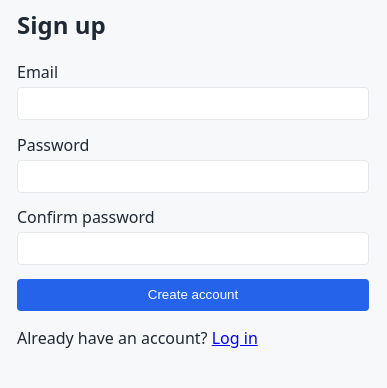
SignupPage › blocks submit when confirm password does not match (negative)
This screenshot has width=387, height=388.
Step 1. Type "alice@example.com" into the field labelled "Email" → [193, 103], box x1=17 y1=87 x2=369 y2=120
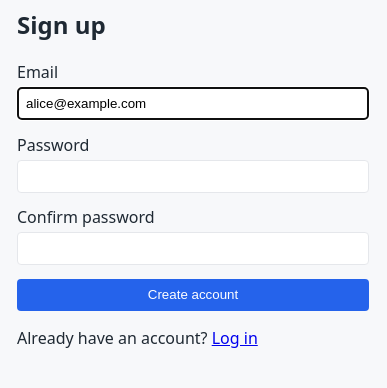
Step 2. Type "password1" into the password field labelled "Password" → [193, 176], box x1=17 y1=160 x2=369 y2=192
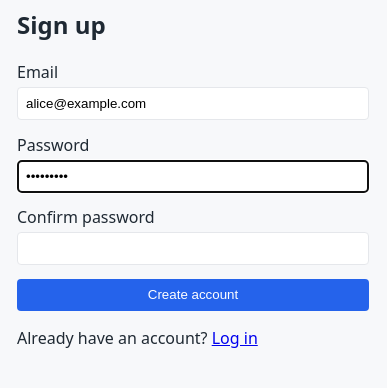
Step 3. Type "password2" into the password field labelled "Confirm password" → [193, 249], box x1=17 y1=232 x2=369 y2=265
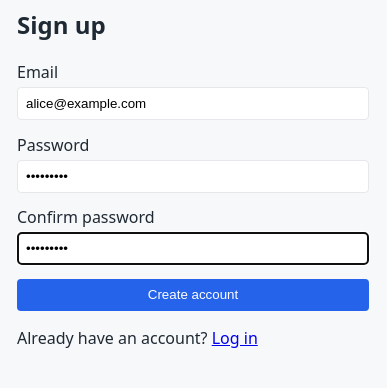
Step 4. Click the button "Create account" → [193, 295], box x1=17 y1=279 x2=369 y2=311
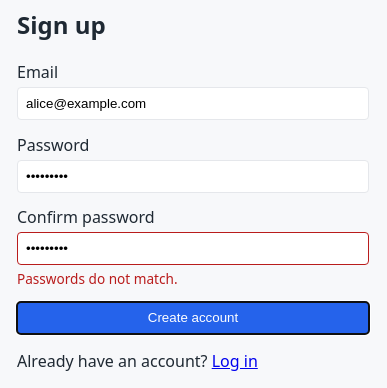
Now the text "Passwords do not match." is shown, box x1=17 y1=269 x2=178 y2=288
